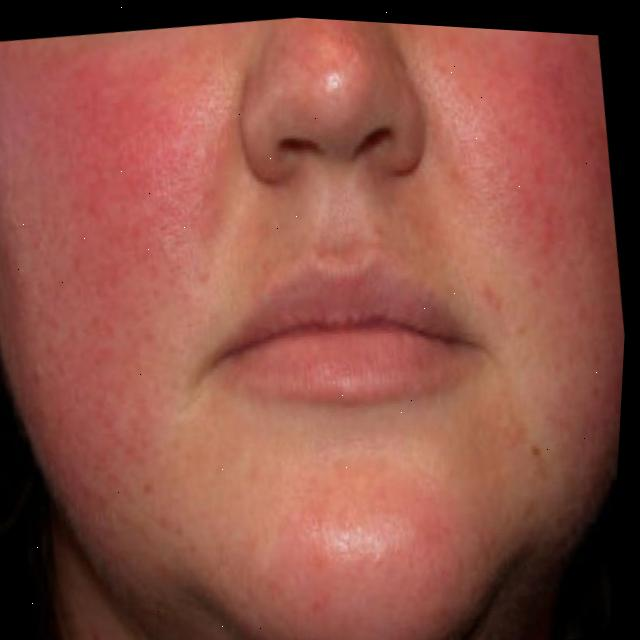Rosacea: (0, 43, 219, 421), (434, 27, 635, 319)
